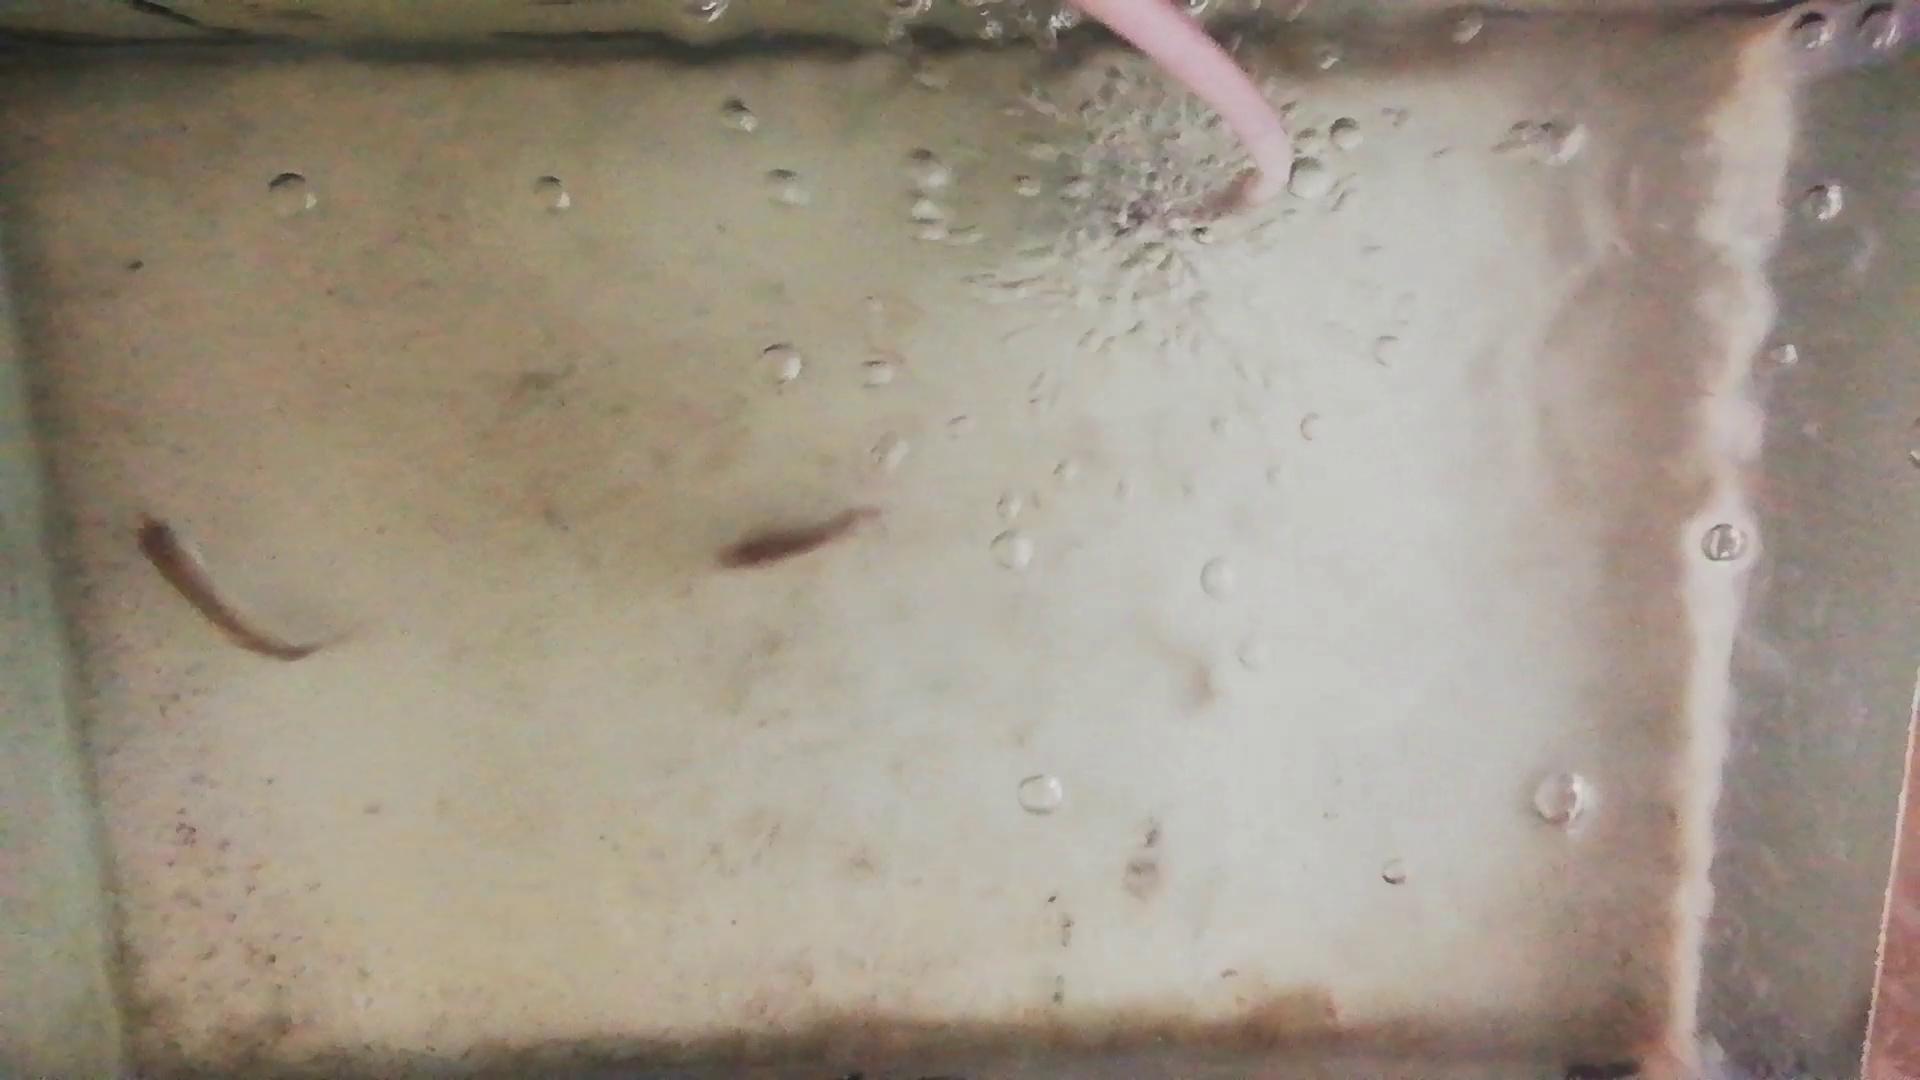fish: (136, 512, 309, 659), (713, 512, 872, 564)
